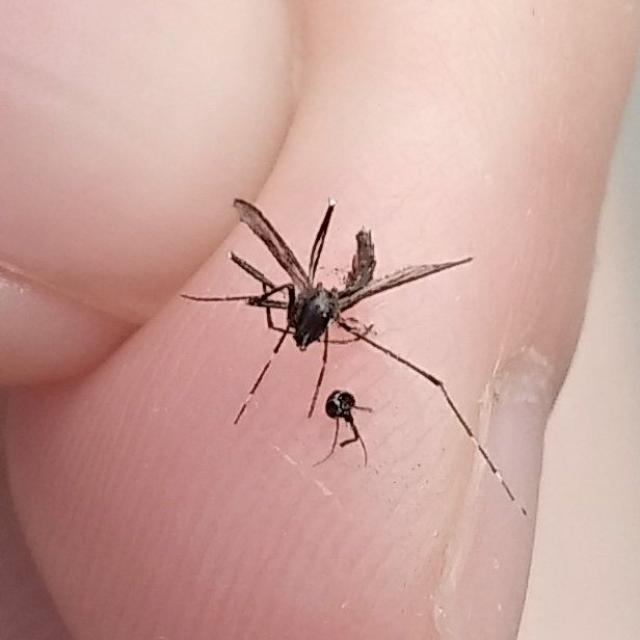albopictus: (165, 176, 514, 522)
